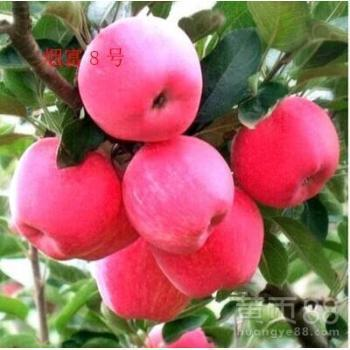apple: (75, 17, 206, 145), (11, 136, 123, 259), (146, 189, 267, 298), (124, 136, 235, 251), (228, 95, 339, 209), (91, 238, 186, 321)
